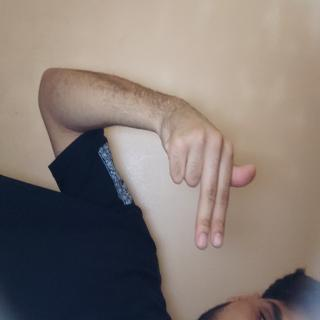GHAYN: (72, 79, 191, 217)
